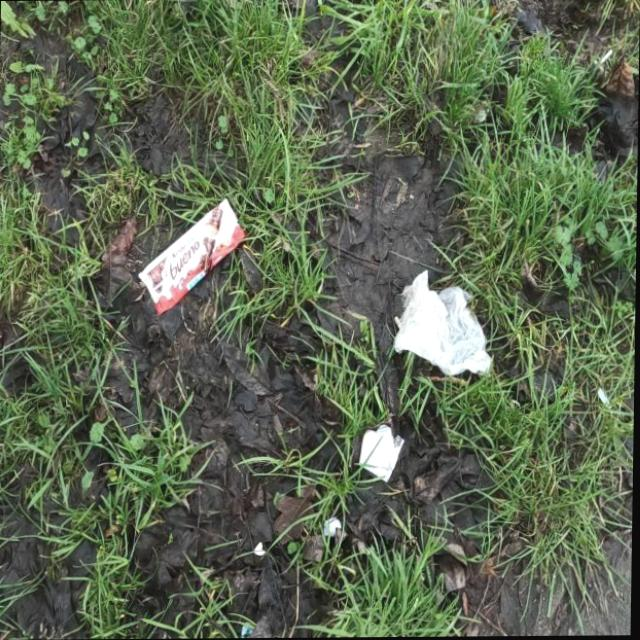Plastic: (136, 195, 247, 317), (393, 266, 494, 378), (359, 424, 406, 484)
